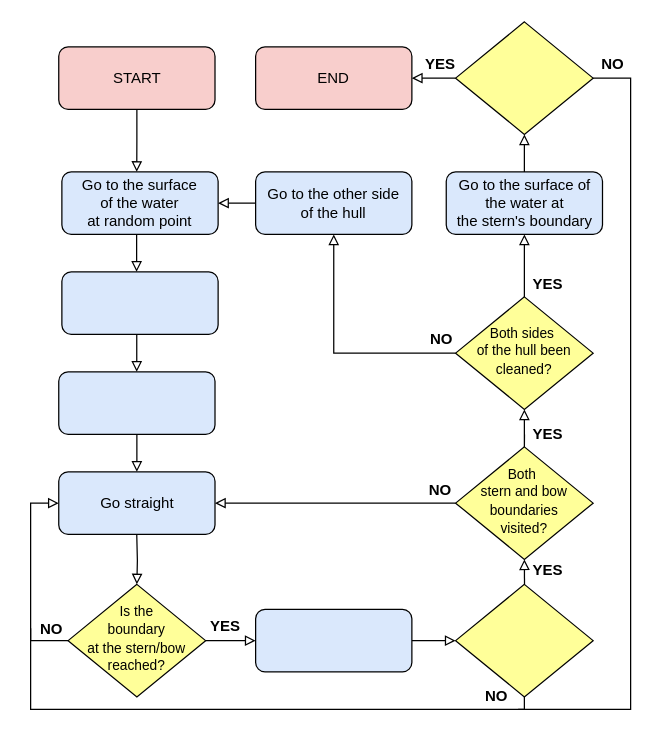
The diagram is 660 pixels wide and 733 high, and some of its shapes have lost their labels. The centre of each missing label's shape, as x and y in pixels:
"Go to the boundary at the bow" belongs at (x=139, y=302).
"Is the boundary at the keel reached?" belongs at (x=523, y=640).
"Is the stern cleaned?" belongs at (x=523, y=77).
"Turn 180 degrees" belongs at (x=333, y=640).
"Turn on the brushes" belongs at (x=136, y=402).
